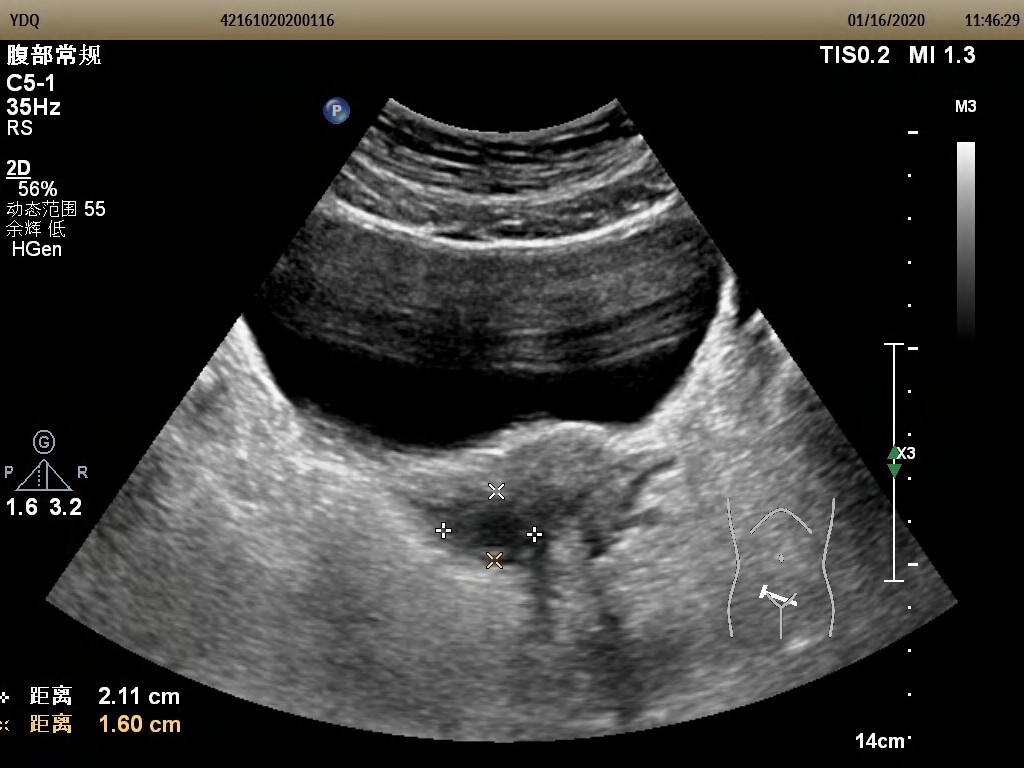肌瘤: (454, 503, 534, 555)
